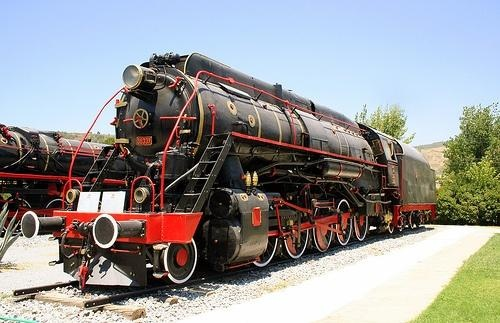train: (20, 52, 439, 285), (1, 125, 114, 234)
